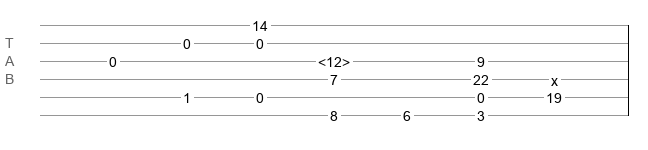0: (109, 54, 117, 64), (183, 36, 191, 46), (256, 90, 264, 100), (256, 36, 264, 46), (477, 90, 485, 100)
1: (183, 90, 191, 100)
14: (252, 18, 268, 28)
19: (546, 90, 562, 100)
22: (473, 72, 489, 82)
3: (477, 108, 485, 118)
6: (403, 108, 411, 118)
7: (330, 72, 338, 82)
8: (330, 108, 338, 118)
9: (477, 54, 485, 64)
harmonic: (318, 54, 350, 64)
x: (551, 73, 558, 81)
